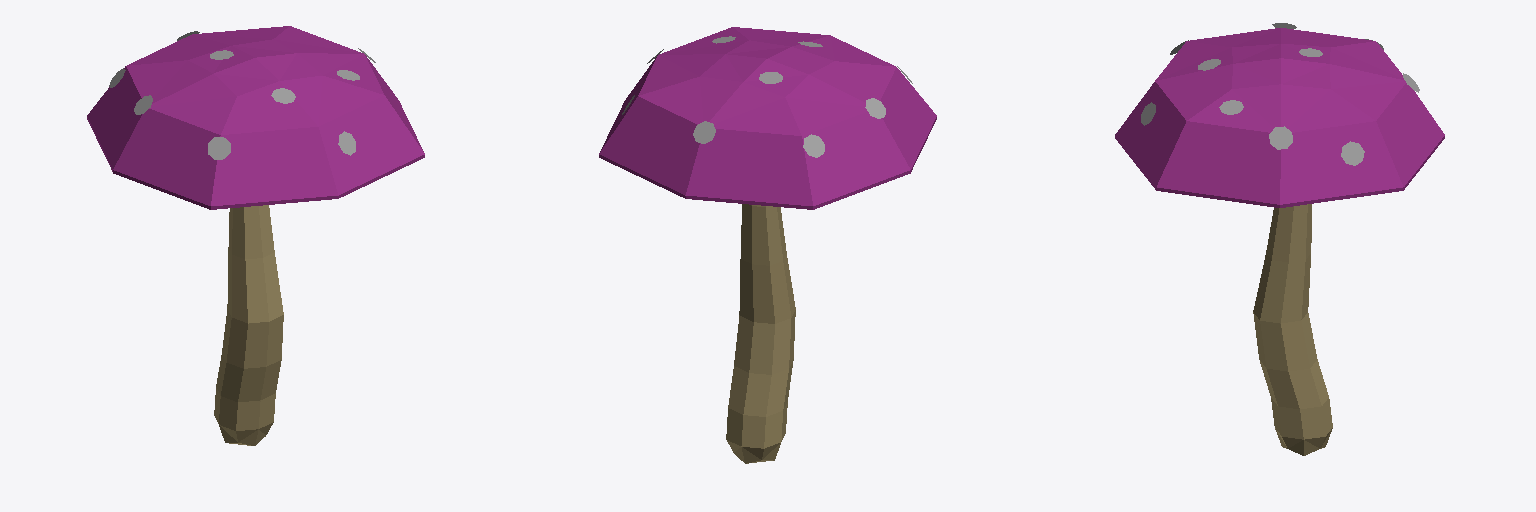
The model's file is gereb3.obj.
3 views of the same model, side by side, from view 1: azimuth 30°, elevation 25°; view 2: azimuth 150°, elevation 25°; view 3: azimuth 270°, elevation 25° (orthographic).
Parts seen in each view (by area): view 1: Cube.002_Cube.004; view 2: Cube.002_Cube.004; view 3: Cube.002_Cube.004.
Boxes of the visible parts, box(x1,y1,x2,y2) form: Cube.002_Cube.004: box(87, 26, 424, 445); Cube.002_Cube.004: box(599, 27, 936, 463); Cube.002_Cube.004: box(1115, 23, 1444, 455).
Bounding box in the file's own units: 3.9 × 5.16 × 3.9.